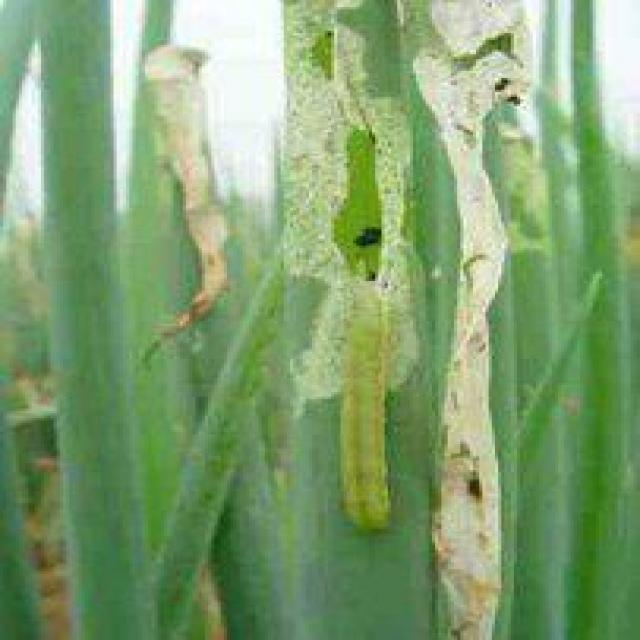BeetArmyWorm-Larva-: (322, 282, 416, 537)
